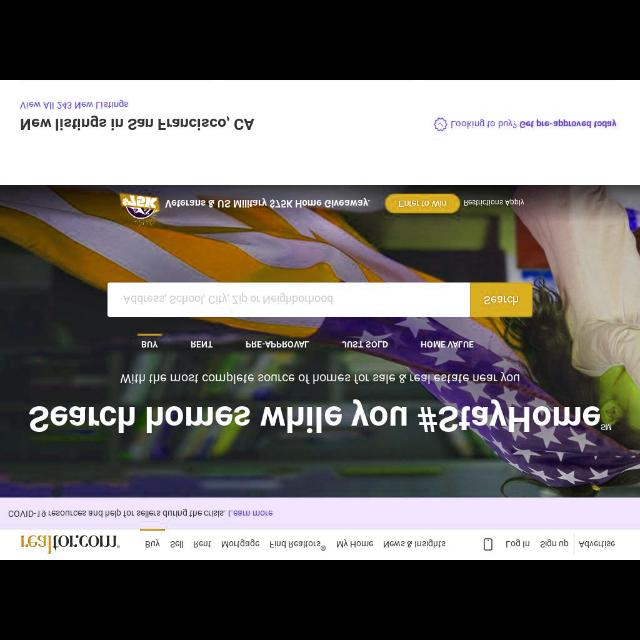backgroundimage: (1, 185, 640, 498)
icon: (432, 116, 448, 132), (483, 537, 493, 551)
image: (19, 532, 121, 554), (116, 194, 160, 228)
input: (108, 282, 470, 316)
multitab: (131, 332, 479, 354)
text: (26, 398, 612, 434), (118, 370, 522, 386), (17, 115, 257, 134), (120, 291, 334, 307), (8, 508, 274, 520), (164, 197, 370, 209), (450, 117, 618, 131), (20, 97, 128, 111), (382, 538, 446, 550), (268, 540, 326, 550), (462, 198, 526, 206), (220, 538, 260, 548), (336, 539, 374, 549), (579, 540, 615, 548), (540, 538, 568, 548), (506, 538, 530, 548), (192, 540, 212, 548), (146, 540, 160, 548), (170, 540, 184, 548)
textbutton: (470, 282, 532, 318), (386, 192, 460, 214)
toolbar: (1, 529, 639, 557)
